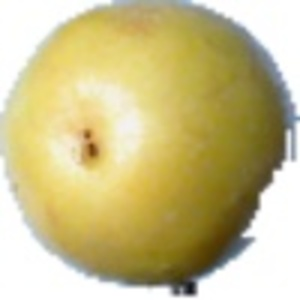maracujá: (1, 1, 300, 297)
